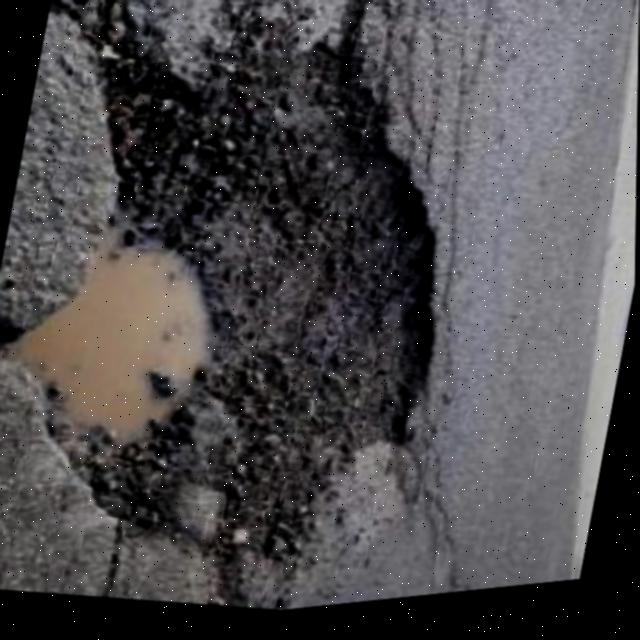Pothole: (0, 0, 505, 620)
